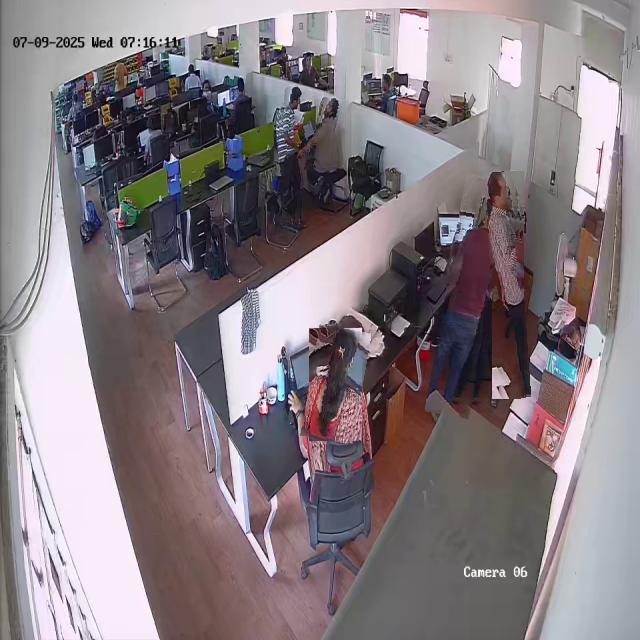person: (435, 174, 500, 418), (488, 171, 528, 400), (304, 326, 367, 443), (272, 86, 310, 226), (309, 94, 345, 175)
